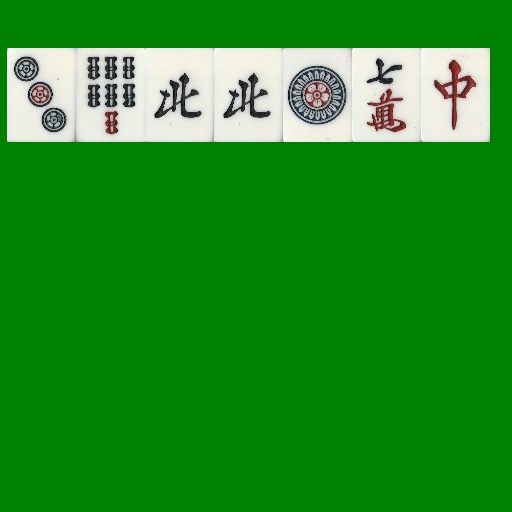1p: (283, 48, 352, 142)
3p: (7, 48, 76, 142)
7m: (352, 48, 421, 142)
7s: (76, 48, 145, 142)
north: (145, 48, 214, 142), (214, 48, 283, 142)
tyun: (421, 48, 490, 142)
